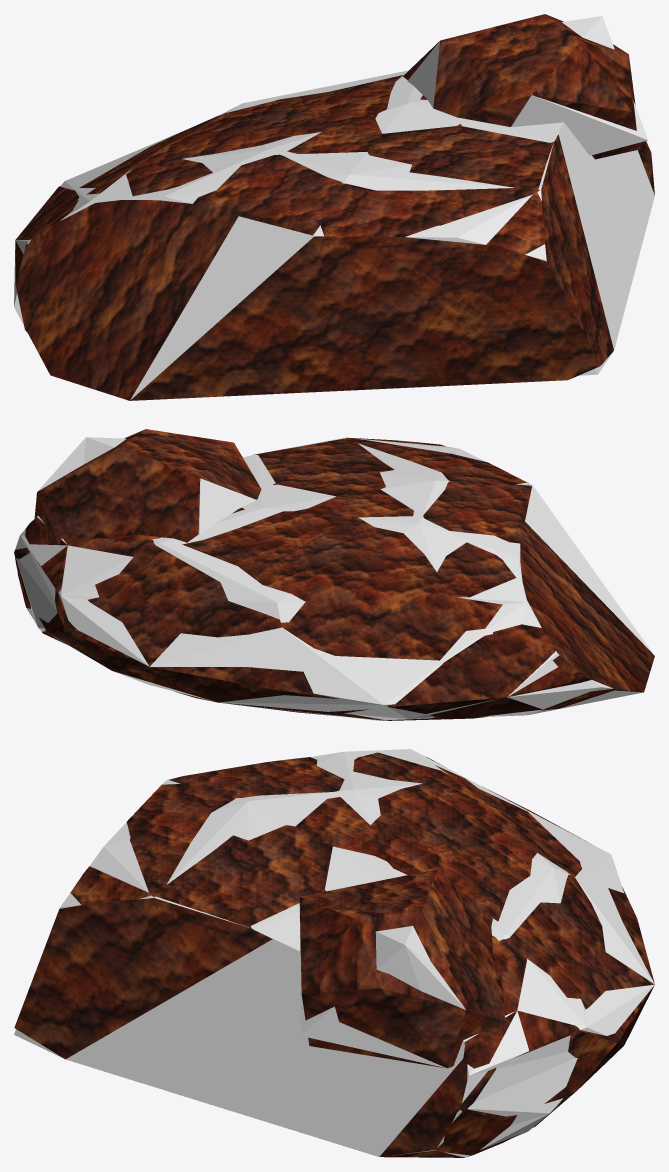
The model's file is Laterita-04-Laje.glb.
3 renders of one model, top to bottom at view 1: azimuth 30°, elevation 25°; view 2: azimuth 150°, elevation 25°; view 3: azimuth 270°, elevation 25°, orthographic. The views are drawn at different scales.
Parts seen in each view (by area): view 1: Laterita-04-Laje, Laterita-04-Laje_COL; view 2: Laterita-04-Laje, Laterita-04-Laje_COL; view 3: Laterita-04-Laje, Laterita-04-Laje_COL.
Boxes of the visible parts, x1,y1,x2,y2 form: Laterita-04-Laje: (15,14,654,400); Laterita-04-Laje_COL: (14,16,654,400); Laterita-04-Laje: (14,429,654,720); Laterita-04-Laje_COL: (15,437,654,720); Laterita-04-Laje: (14,752,654,1157); Laterita-04-Laje_COL: (14,749,654,1157).
Size of what is drawn, in the model's own units: 3.81 by 1.04 by 3.02.
1 material, 1 textured.
